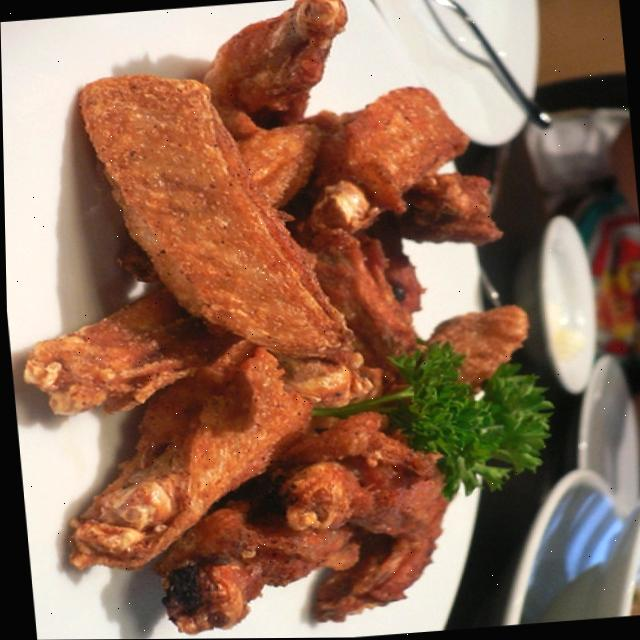鸡肉料理 含炸鸡: (0, 0, 601, 640)
